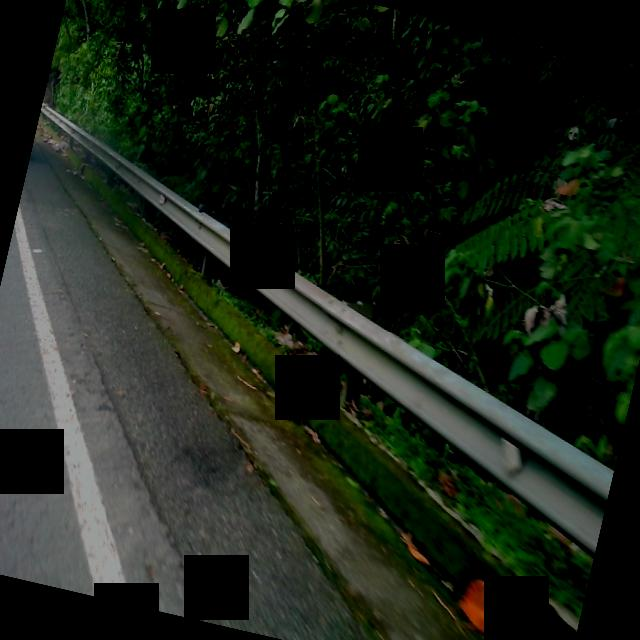DITCH: (0, 114, 640, 640), (0, 115, 640, 640)
